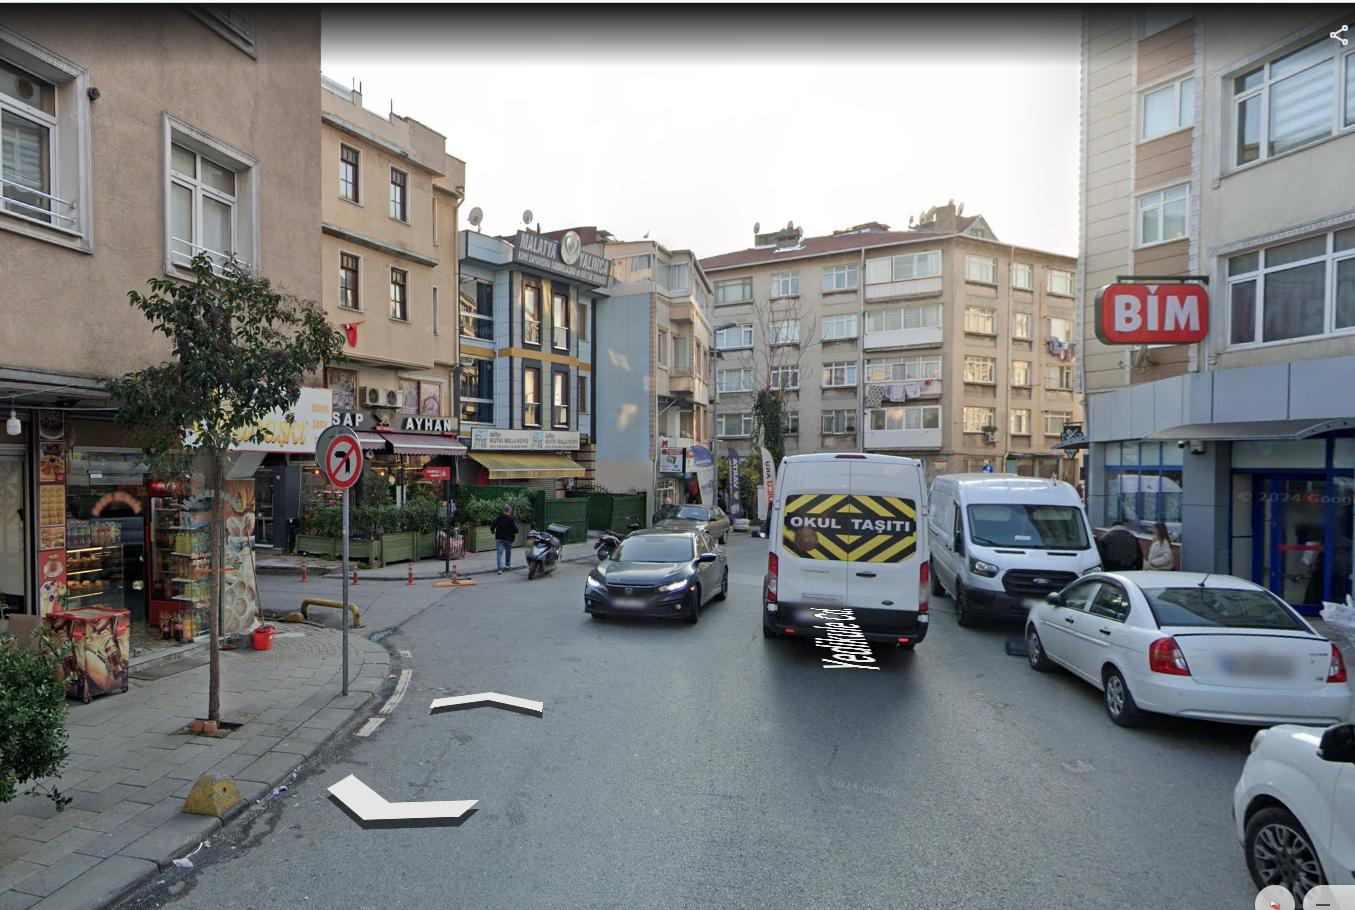leftturnsareforbidden: (324, 434, 366, 494)
